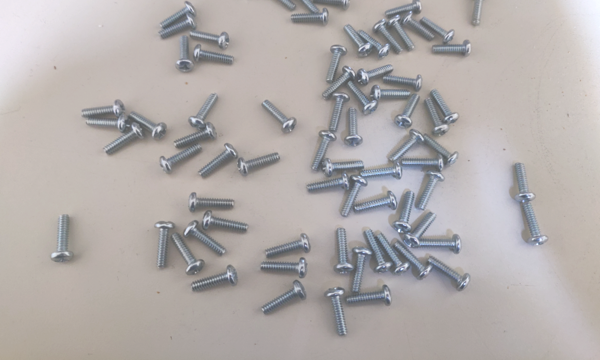shortscrew: (261, 280, 308, 315), (183, 221, 227, 258), (427, 256, 471, 293), (171, 231, 205, 275), (394, 243, 433, 281), (103, 122, 146, 156), (198, 143, 238, 178), (378, 234, 411, 276), (192, 264, 238, 293), (160, 143, 203, 174), (364, 229, 393, 274), (403, 212, 438, 249), (423, 134, 460, 169), (521, 202, 549, 247), (324, 287, 348, 337), (262, 100, 297, 134), (417, 170, 446, 211), (173, 123, 217, 150), (265, 234, 311, 259), (129, 111, 167, 141), (189, 92, 218, 131), (51, 214, 74, 263), (322, 67, 356, 100), (342, 175, 368, 218), (348, 80, 379, 116), (431, 89, 460, 127), (237, 152, 281, 177), (158, 12, 196, 40), (159, 1, 197, 29), (153, 221, 175, 269), (345, 285, 393, 307), (202, 211, 249, 233), (334, 227, 356, 274), (260, 258, 309, 279), (344, 24, 373, 59), (375, 20, 404, 55), (388, 15, 416, 51), (420, 17, 456, 45), (312, 131, 337, 171), (357, 29, 390, 59), (394, 191, 417, 234), (352, 247, 373, 294), (394, 94, 421, 130), (353, 191, 397, 213), (402, 12, 435, 41), (189, 193, 236, 213), (426, 98, 450, 136), (193, 45, 235, 66), (514, 163, 536, 203), (306, 173, 350, 193), (325, 46, 348, 84), (81, 100, 126, 119), (86, 113, 130, 132), (421, 235, 462, 255), (175, 35, 196, 74), (329, 92, 350, 131), (360, 162, 403, 181), (322, 158, 365, 177), (190, 30, 230, 50), (344, 108, 364, 147), (357, 66, 395, 86), (290, 8, 330, 26), (433, 39, 471, 57), (383, 74, 423, 91), (402, 155, 444, 171), (370, 86, 412, 102), (385, 0, 424, 15), (470, 0, 490, 27), (289, 0, 320, 15), (313, 0, 350, 11), (263, 0, 297, 11)
